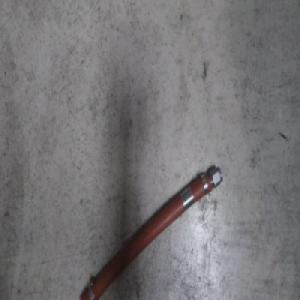Hose: (75, 163, 223, 300)
